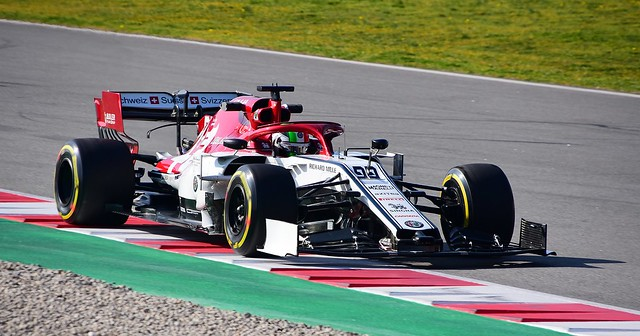F1 Car: (49, 82, 561, 267)
